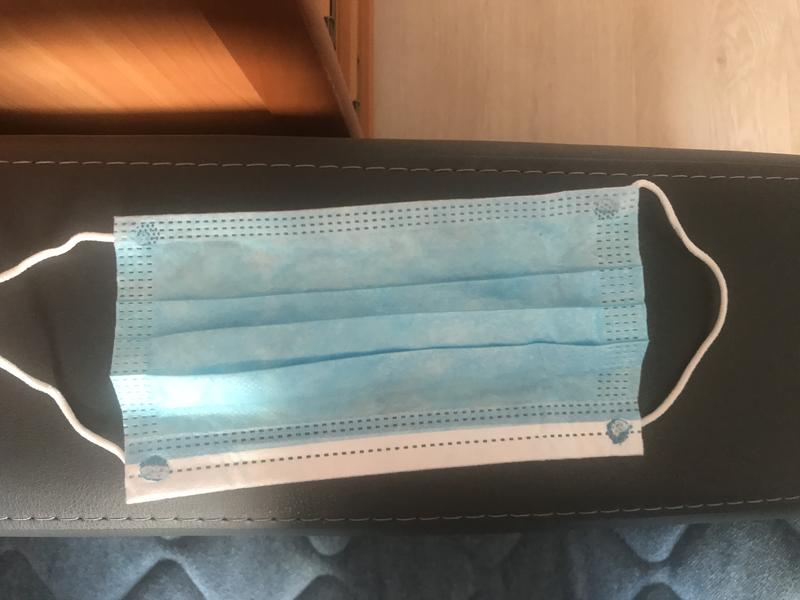medical_mask: (4, 179, 727, 506)
